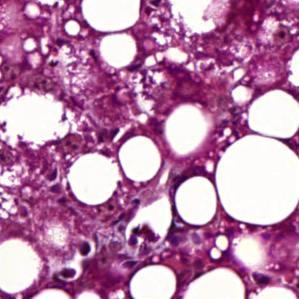steatosis: (63, 148, 118, 208), (175, 174, 219, 225), (119, 136, 165, 182)
